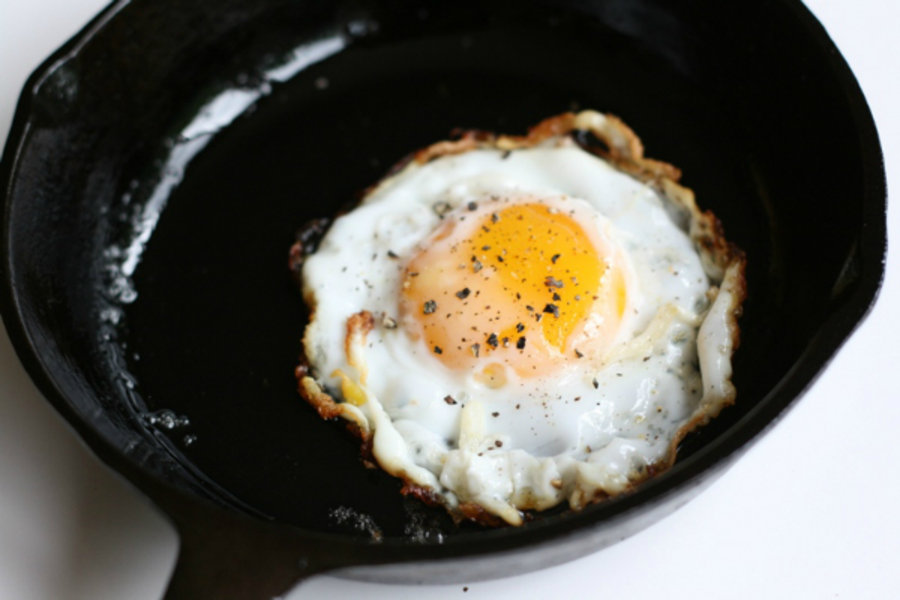fried egg: (357, 173, 675, 461)
